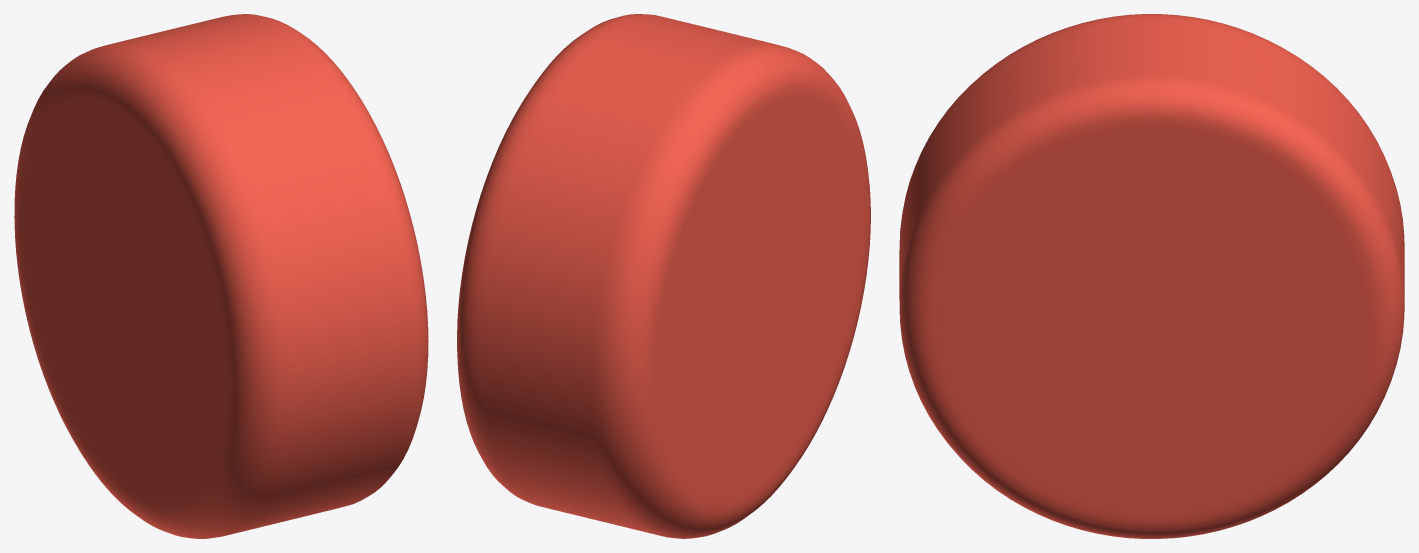
Rendered from Round_Pill_Individual_Red.glb.
The picture shows the model from 3 angles, left to right: view 1: azimuth 30°, elevation 25°; view 2: azimuth 150°, elevation 25°; view 3: azimuth 270°, elevation 25°; orthographic projection.
Parts seen in each view (by area): view 1: Round_Pill.001; view 2: Round_Pill.001; view 3: Round_Pill.001.
Part boxes in pixels (box(x1,y1,x2,y2)): Round_Pill.001: box(14, 14, 428, 538); Round_Pill.001: box(457, 14, 870, 538); Round_Pill.001: box(899, 14, 1404, 538).
Bounding box in the file's own units: 0.5811 × 1.35 × 1.35.
1 material, 1 textured.
